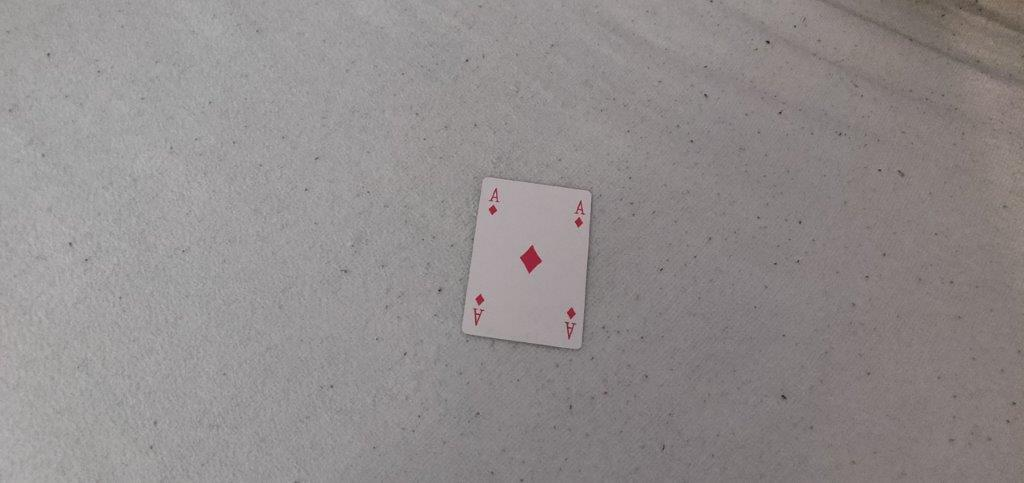AD: (482, 186, 504, 217), (569, 197, 590, 229)
